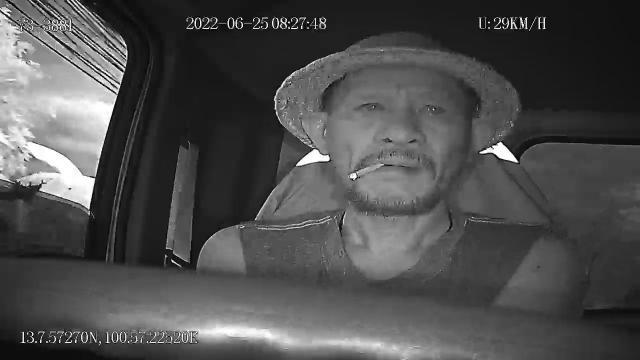SafeDriving: (412, 90, 451, 121), (351, 92, 390, 117)
Smoking: (348, 160, 386, 180)
